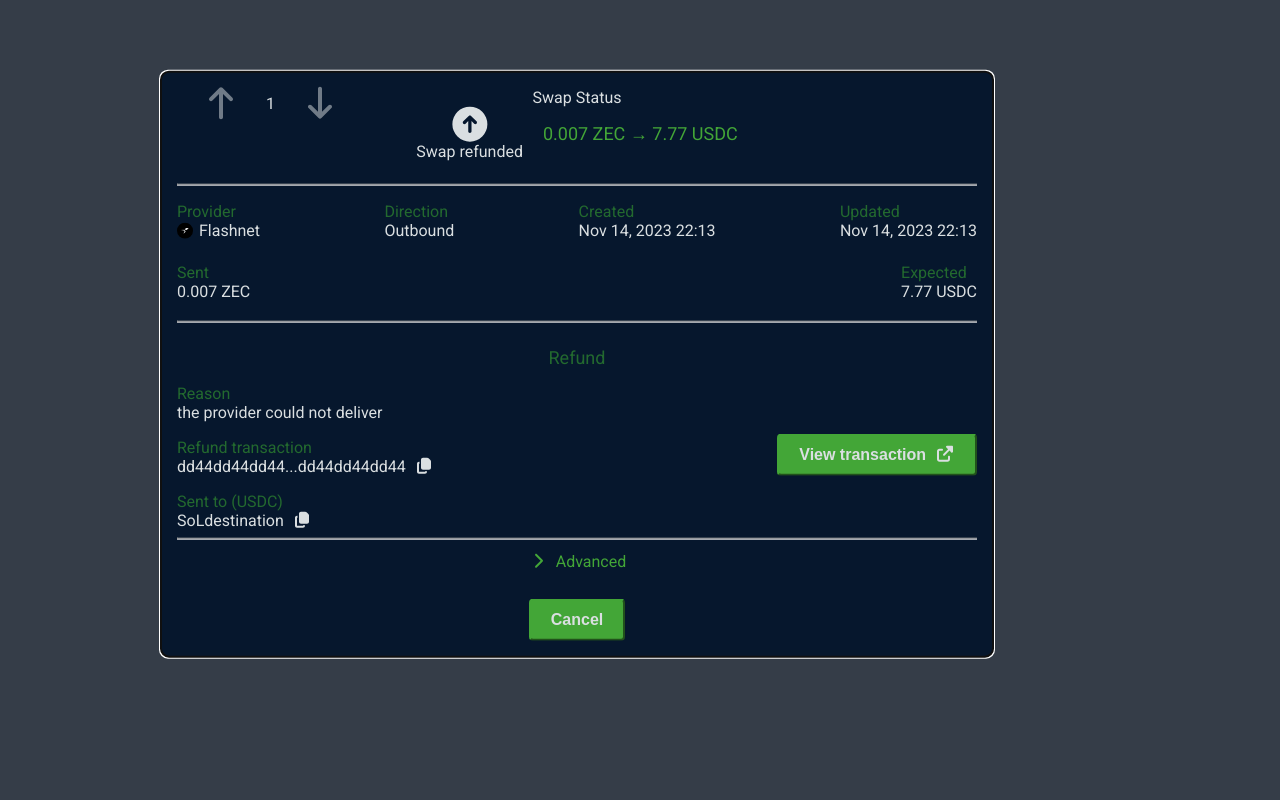
it: SwapDetailModal refund › does not list the refund again under Advanced
Click the button "Advanced".
click(577, 561)  # box [520, 547, 634, 574]
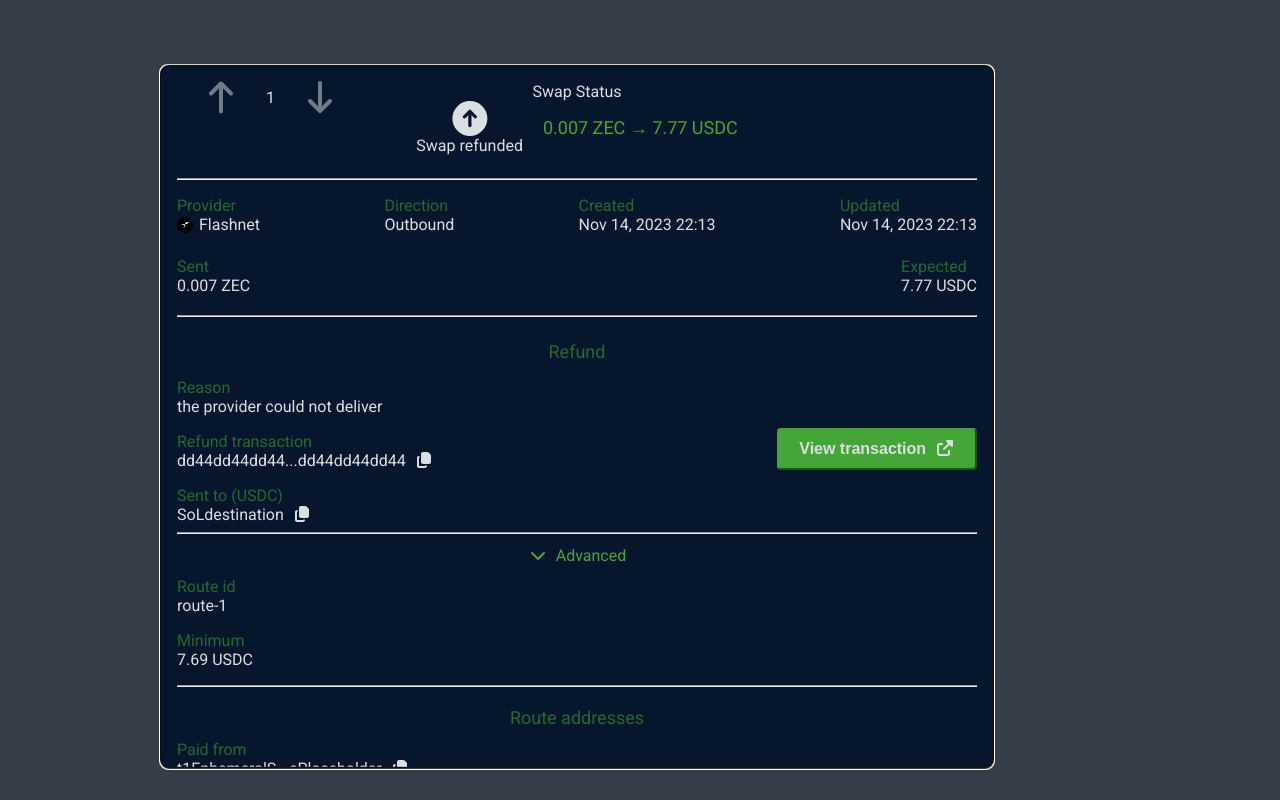
Expected: the number of buttons "dd44dd44dd44...dd44dd44dd44" is 1, [177, 450, 406, 469]
